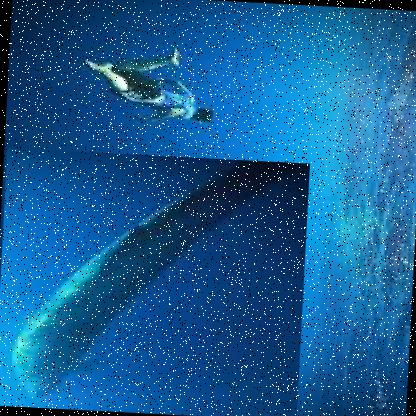blue_whale: (0, 146, 309, 415)
